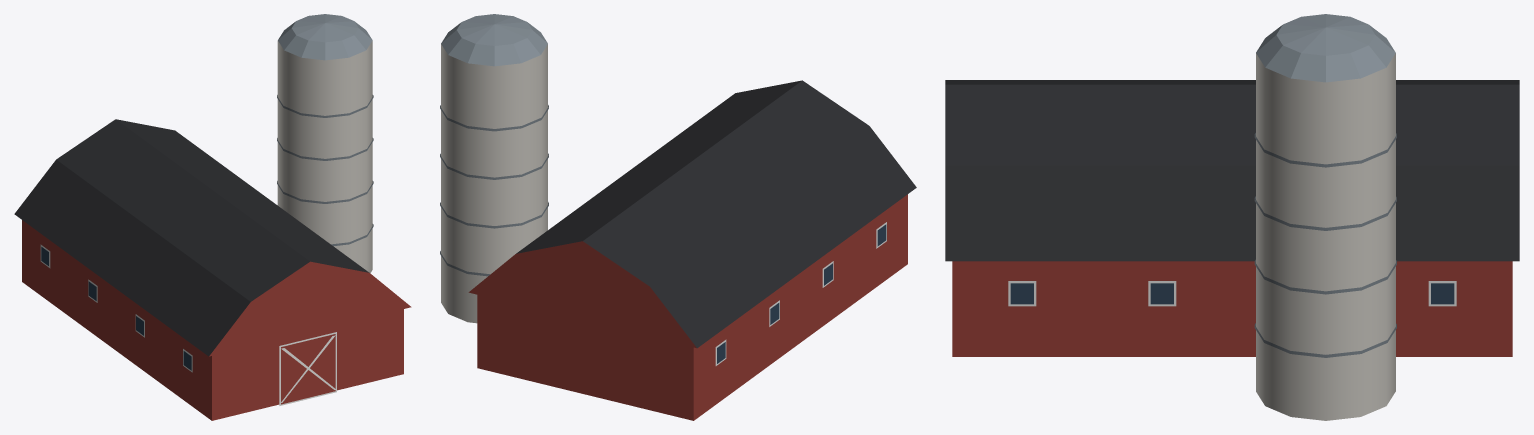
File: grange_americaine.glb
3 views of the same model, side by side, from view 1: azimuth 30°, elevation 25°; view 2: azimuth 150°, elevation 25°; view 3: azimuth 270°, elevation 25° (orthographic). The views are drawn at different scales.
Visible parts, largest first — view 1: grange_americaine; view 2: grange_americaine; view 3: grange_americaine.
Part boxes in pixels (x1,y1,x2,y2): grange_americaine: (14,14,411,420); grange_americaine: (440,14,916,420); grange_americaine: (945,14,1519,420).
Size of the model in its own units: 20.95 by 17.3 by 24.6.
Materials: 1 (1 with a texture image).
